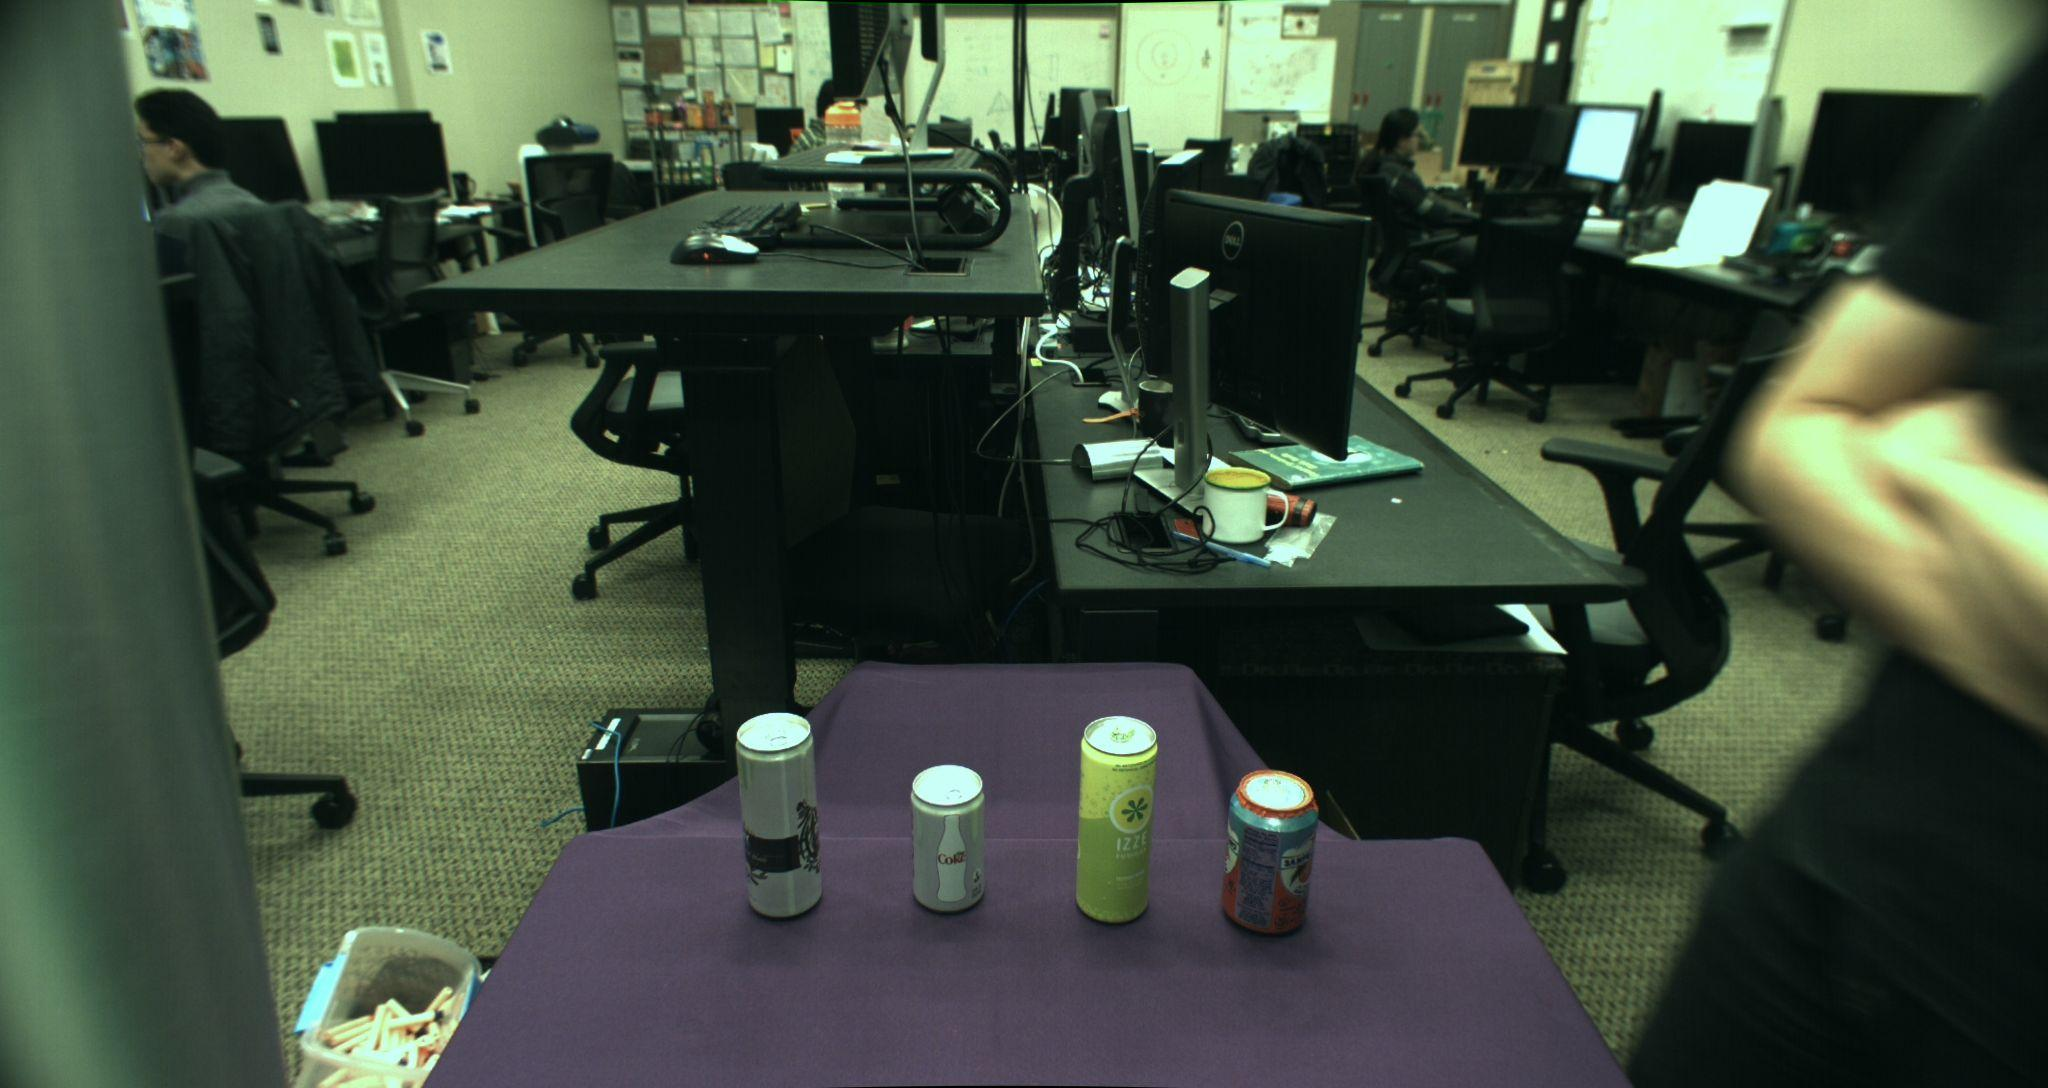can_diet_coke_small: (912, 764, 987, 915)
can_dry_sparkling_vanilla_bean: (735, 711, 824, 919)
can_izze_fusions_lemon_lime: (1074, 715, 1158, 923)
can_sanpellegrino_blood_orange: (1222, 770, 1319, 936)
